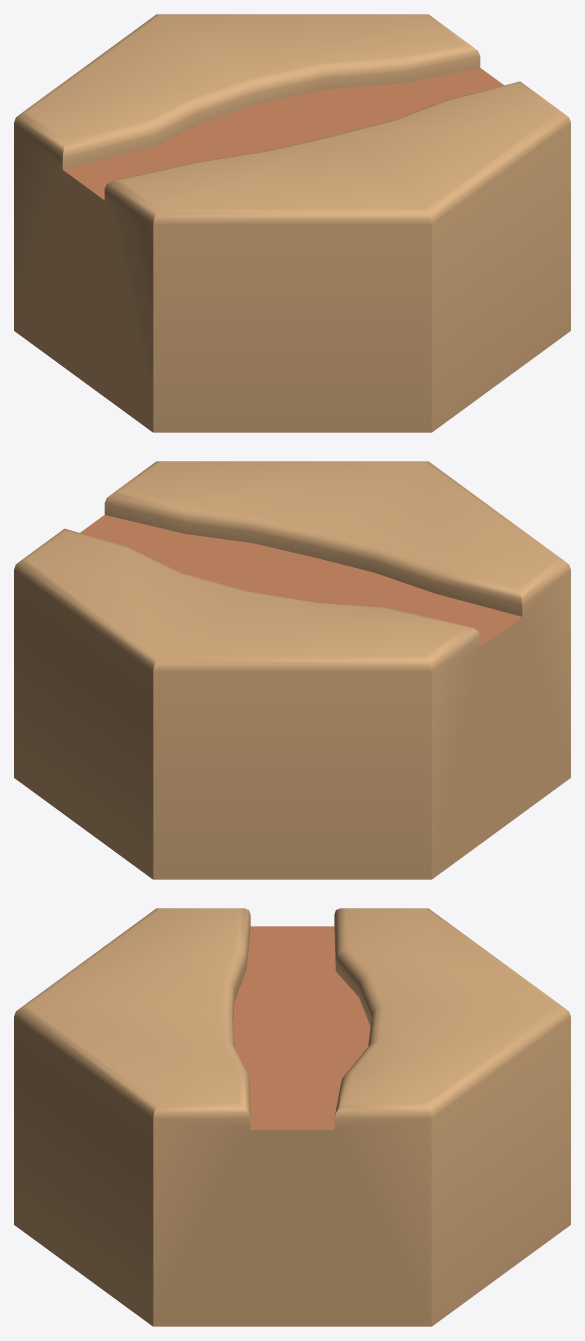
File: hex_sand_roadB.glb
3 renders of one model, top to bottom at view 1: azimuth 30°, elevation 25°; view 2: azimuth 150°, elevation 25°; view 3: azimuth 270°, elevation 25°, orthographic.
Visible parts, largest first — view 1: hex_sand_roadB; view 2: hex_sand_roadB; view 3: hex_sand_roadB.
Part boxes in pixels (left/top/right/bottom): hex_sand_roadB: left=14, top=14, right=570, bottom=432; hex_sand_roadB: left=14, top=461, right=570, bottom=879; hex_sand_roadB: left=14, top=908, right=570, bottom=1326.
Size of the model in its own units: 3.82 by 1.91 by 4.41.
